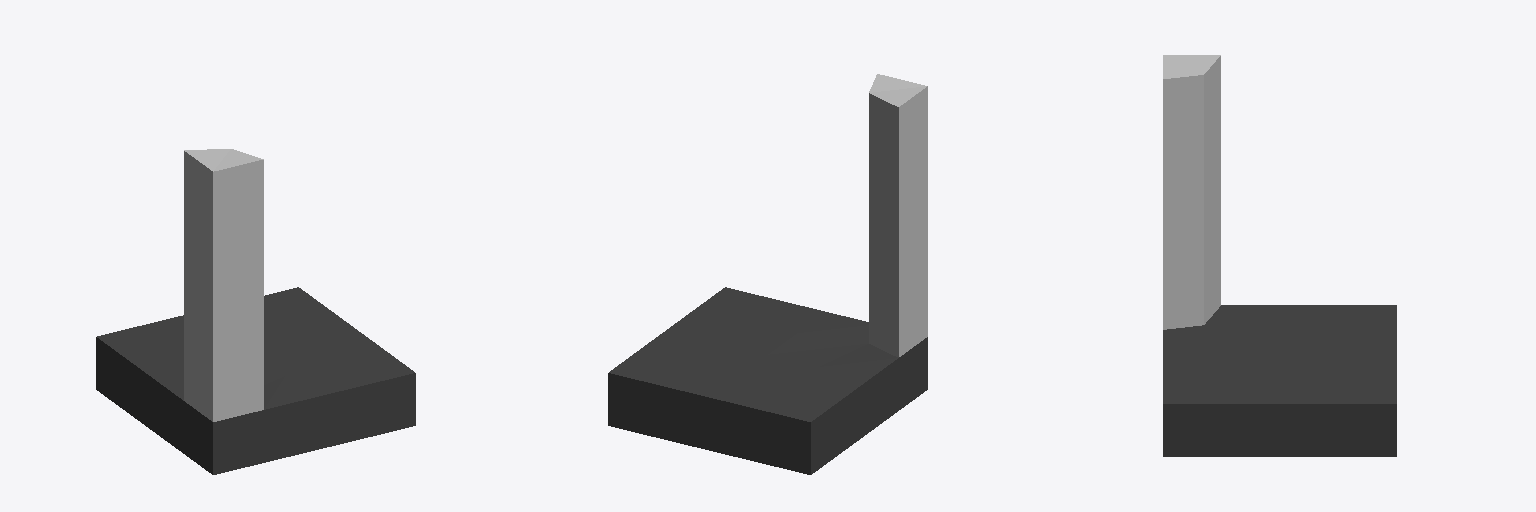
The model's file is InsetWallCorner.obj.
The picture shows the model from 3 angles: view 1: azimuth 30°, elevation 25°; view 2: azimuth 150°, elevation 25°; view 3: azimuth 270°, elevation 25°; orthographic projection.
Visible parts, largest first — view 1: Cube.001; view 2: Cube.001; view 3: Cube.001.
Boxes of the visible parts, box(x1,y1,x2,y2) form: Cube.001: box(96, 149, 415, 474); Cube.001: box(608, 74, 927, 474); Cube.001: box(1163, 55, 1396, 456).
Bounding box in the file's own units: 4 × 5.72 × 4.